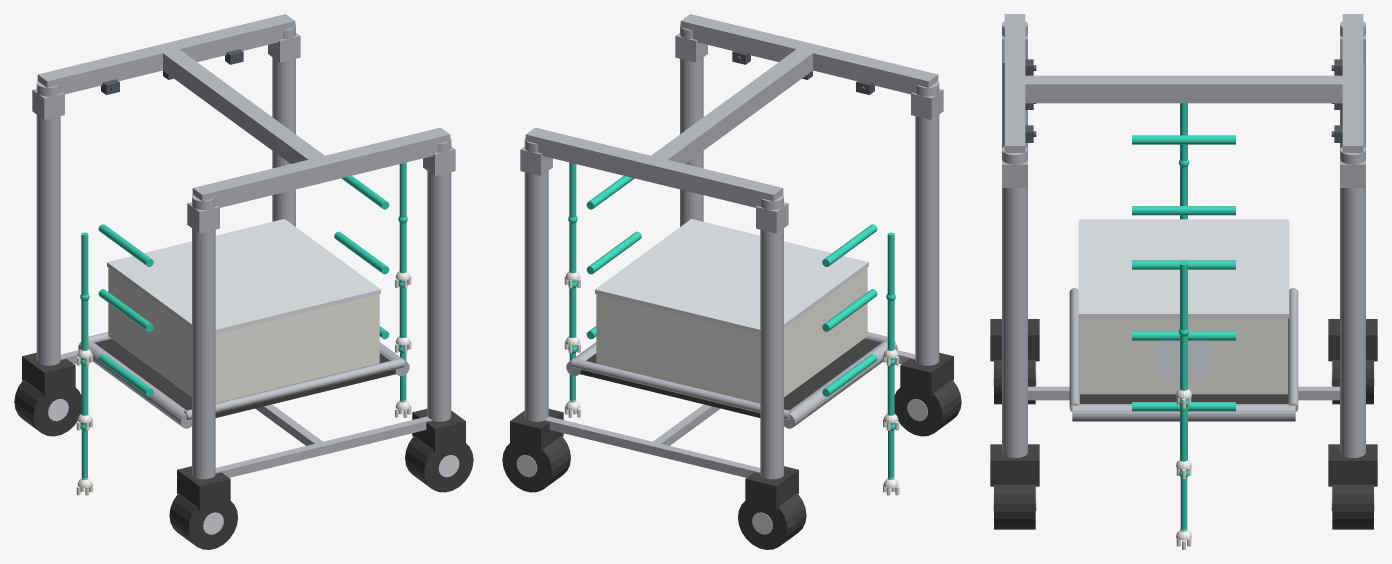
The model's file is omniharvester.glb.
The picture shows the model from 3 angles, left to right: view 1: azimuth 30°, elevation 25°; view 2: azimuth 150°, elevation 25°; view 3: azimuth 270°, elevation 25°; orthographic projection. The views are drawn at different scales.
Visible parts, largest first — view 1: Portal_Chassis, Storage_Bin, Bin_Lid, Drive_Module_L_R, Drive_Module_L_F, Drive_Module_R_R, Chassis_Gussets, Central_Conveyor, Conveyor_Frame, Conveyor_Drive_Roll, Robotic_Arm_L_3, Robotic_Arm_L_1 (+4 smaller); view 2: Portal_Chassis, Storage_Bin, Bin_Lid, Drive_Module_L_F, Drive_Module_L_R, Drive_Module_R_F, Chassis_Gussets, Central_Conveyor, Conveyor_Frame, Conveyor_Drive_Roll, Robotic_Arm_L_3, Robotic_Arm_L_1 (+4 smaller); view 3: Portal_Chassis, Bin_Lid, Storage_Bin, Drive_Module_R_F, Drive_Module_R_R, Conveyor_Drive_Roll, Conveyor_Frame, Robotic_Arm_R_3, Central_Conveyor, Bin_Fill_Level_Window, Drive_Module_L_F, Drive_Module_L_R (+6 smaller).
Part boxes in pixels (x1,y1,x2,y2): Portal_Chassis: (36,14,451,479); Storage_Bin: (108,268,379,403); Bin_Lid: (107,219,380,333); Drive_Module_L_R: (169,466,237,549); Drive_Module_L_F: (14,352,81,436); Drive_Module_R_R: (405,409,473,492); Chassis_Gussets: (32,33,455,233); Central_Conveyor: (95,339,396,417); Conveyor_Frame: (88,332,404,420); Conveyor_Drive_Roll: (78,341,409,428); Robotic_Arm_L_3: (80,354,153,479); Robotic_Arm_L_1: (80,224,153,300); Portal_Chassis: (524,14,939,479); Storage_Bin: (596,268,867,403); Bin_Lid: (595,219,868,333); Drive_Module_L_F: (738,466,806,549); Drive_Module_L_R: (894,352,961,436); Drive_Module_R_F: (502,409,570,492); Chassis_Gussets: (520,33,943,233); Central_Conveyor: (579,339,880,417); Conveyor_Frame: (571,332,887,420); Conveyor_Drive_Roll: (566,341,897,428); Robotic_Arm_L_3: (822,354,895,479); Robotic_Arm_L_1: (822,224,895,300); Portal_Chassis: (1002,14,1365,457); Bin_Lid: (1078,219,1289,318); Storage_Bin: (1080,318,1287,394); Drive_Module_R_F: (1328,444,1377,529); Drive_Module_R_R: (990,444,1039,529); Conveyor_Drive_Roll: (1072,404,1295,421); Conveyor_Frame: (1069,288,1298,411); Robotic_Arm_R_3: (1132,402,1235,531); Central_Conveyor: (1080,394,1287,403); Bin_Fill_Level_Window: (1158,340,1209,378); Drive_Module_L_F: (1328,319,1377,404); Drive_Module_L_R: (990,319,1039,404).
Bounding box in the file's own units: 3.23 × 3.26 × 2.98.
